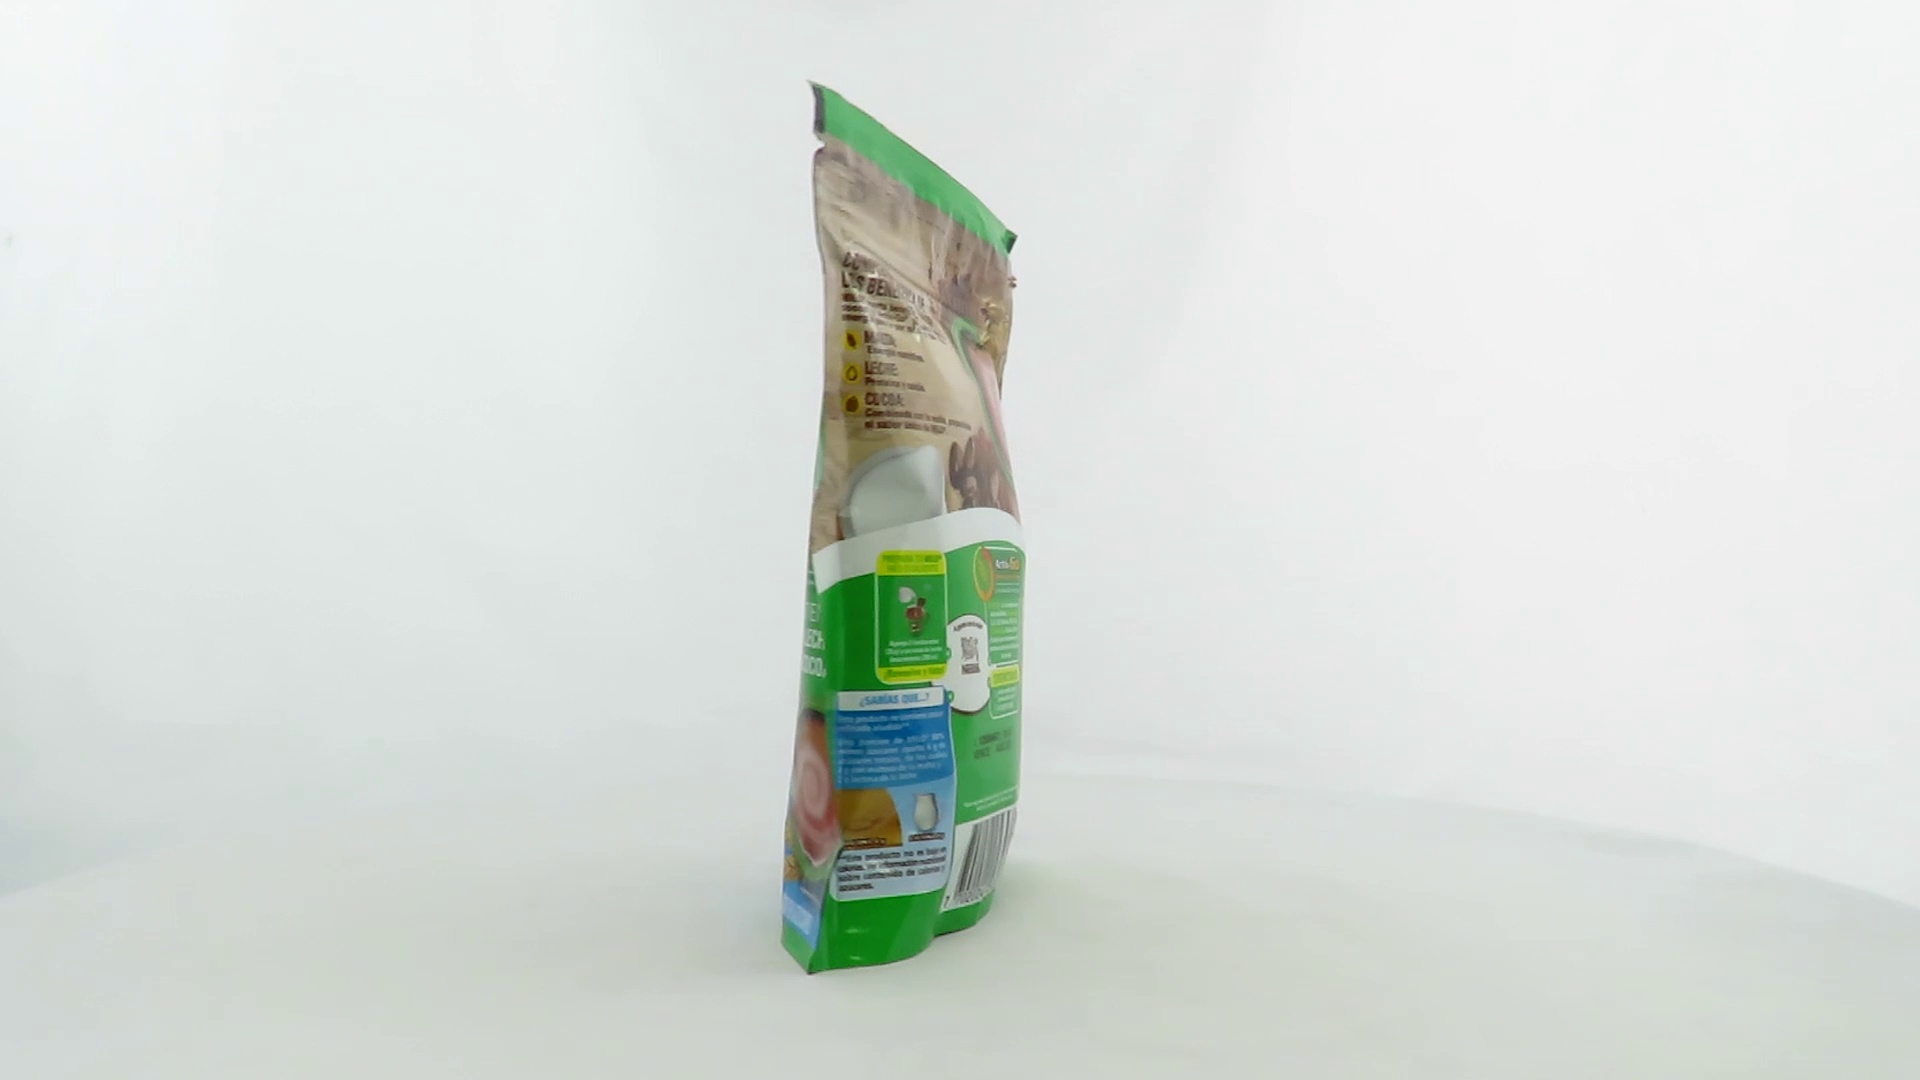COL0170205DYP20000: (775, 74, 1033, 981)
